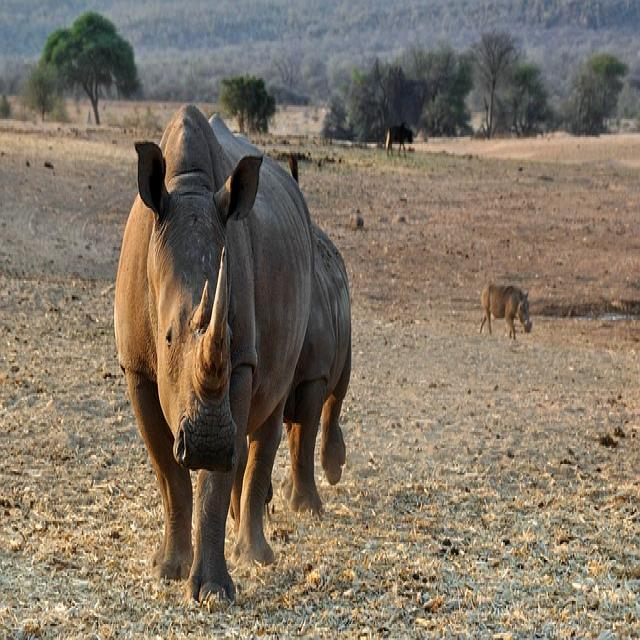Herbivorous: (115, 108, 315, 605)
